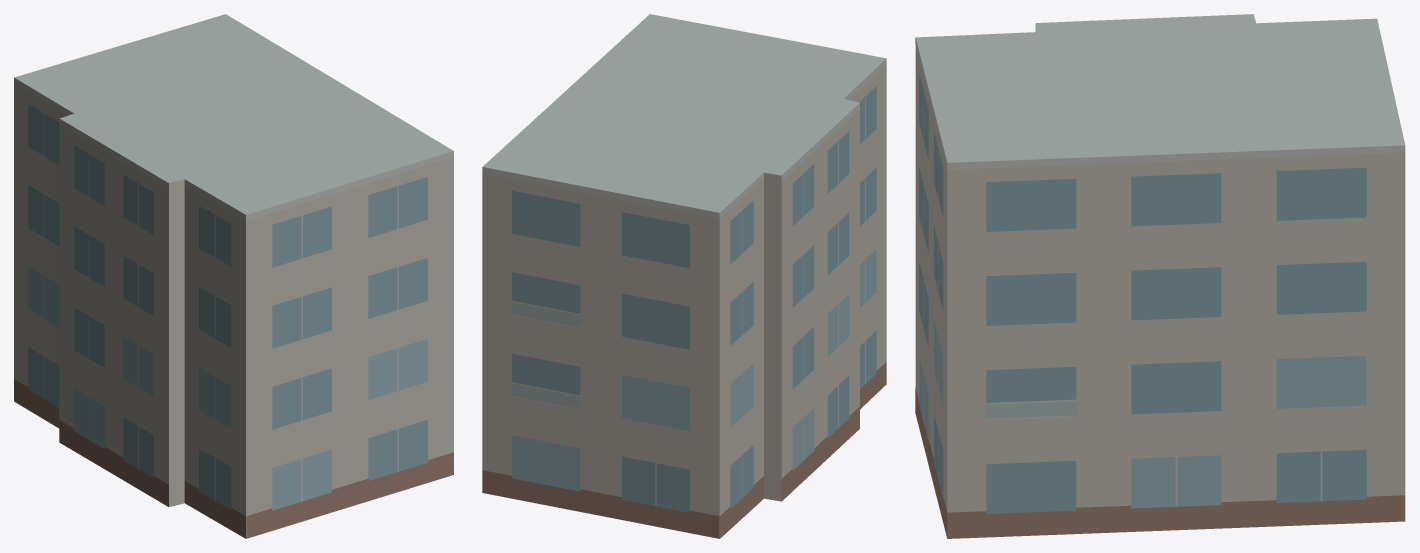
File: survey-upis-33040590.glb
The picture shows the model from 3 angles, left to right: view 1: azimuth 30°, elevation 25°; view 2: azimuth 150°, elevation 25°; view 3: azimuth 270°, elevation 25°; orthographic projection. The views are drawn at different scales.
Visible parts, largest first — view 1: survey-upis-33040590.tmp; view 2: survey-upis-33040590.tmp; view 3: survey-upis-33040590.tmp.
Boxes of the visible parts, bbox=[...] form: survey-upis-33040590.tmp: bbox=[14, 14, 453, 538]; survey-upis-33040590.tmp: bbox=[482, 14, 886, 538]; survey-upis-33040590.tmp: bbox=[915, 14, 1405, 538].
Size of the model in its own units: 10.91 by 12.85 by 15.18.
